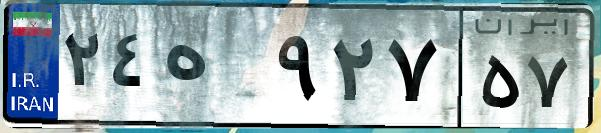2: (330, 28, 385, 110), (57, 26, 110, 100)
4: (110, 28, 158, 98)
5: (475, 38, 525, 113)
7: (385, 28, 445, 110), (525, 38, 570, 115)
9: (270, 28, 330, 110)
ه: (158, 20, 270, 120)
